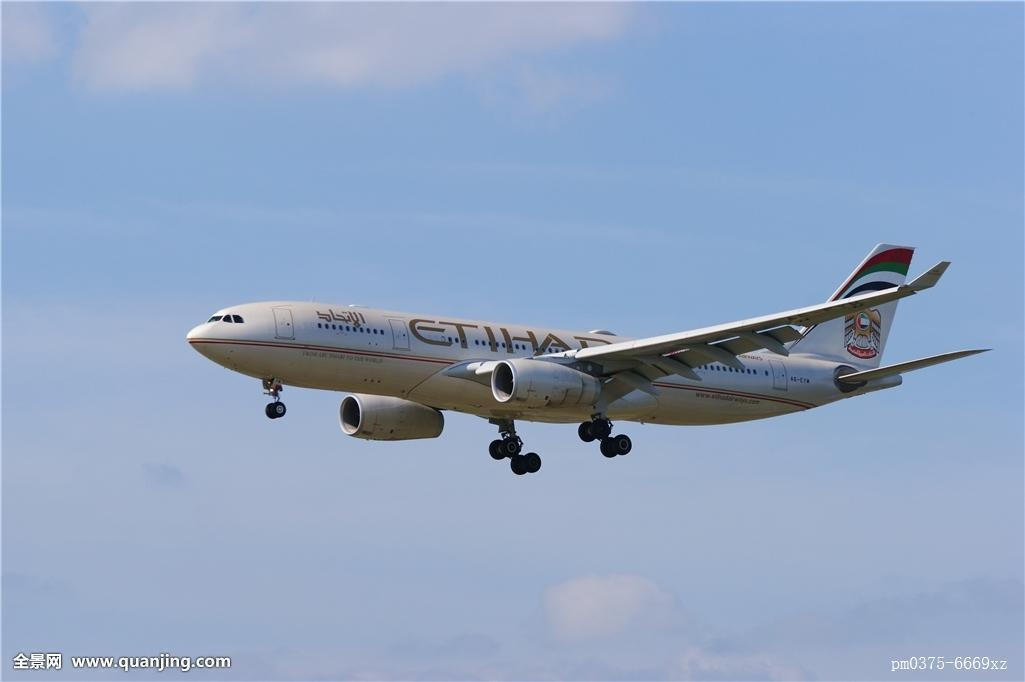airplane: (184, 222, 992, 472)
